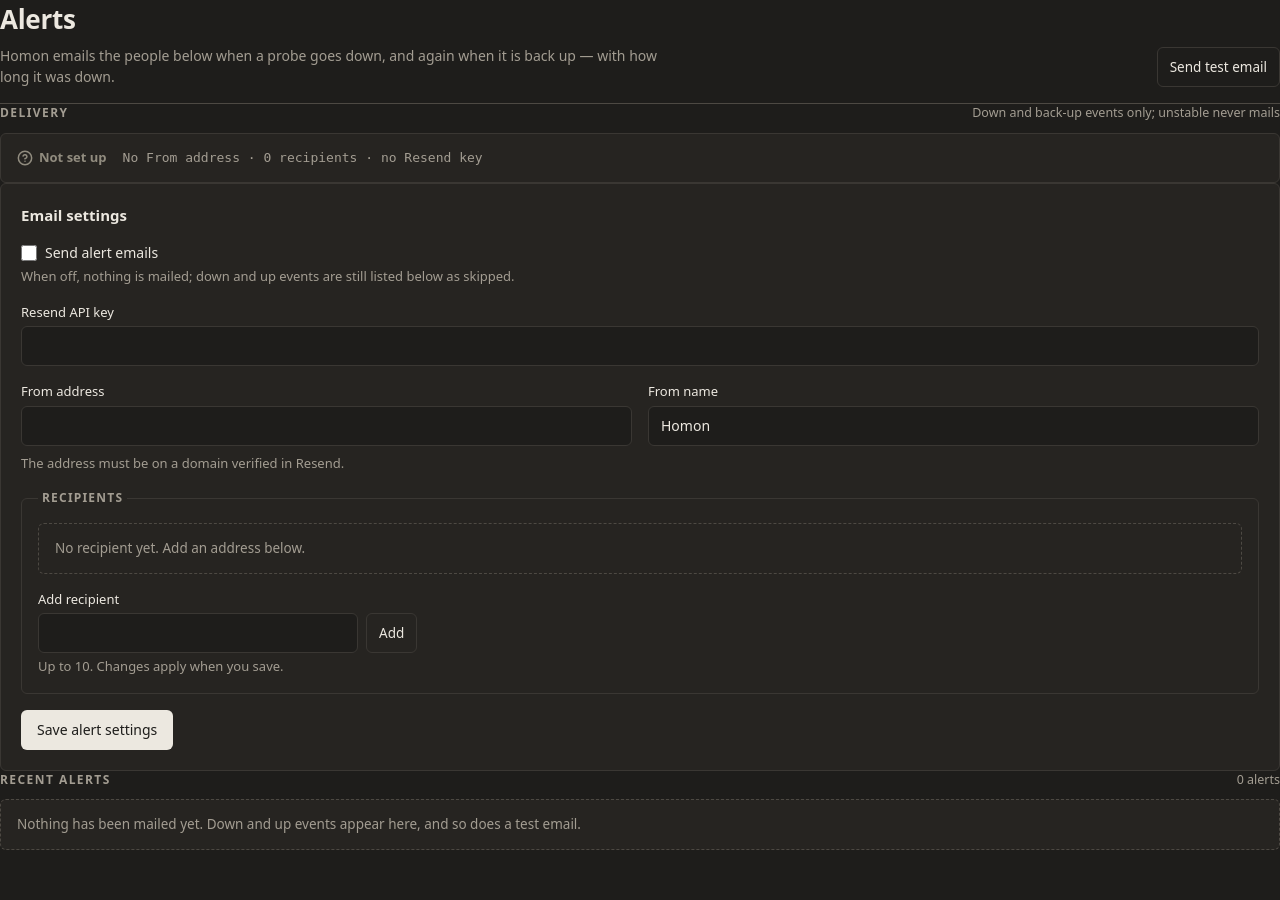
Test: AdminAlertsPage › shows the problem the API gave when a save is refused
Check: the password field labelled "Resend API key" is shown, box [21,326,1259,366]
Click the button "Save alert settings" at point(97, 730), box [21,710,173,750]
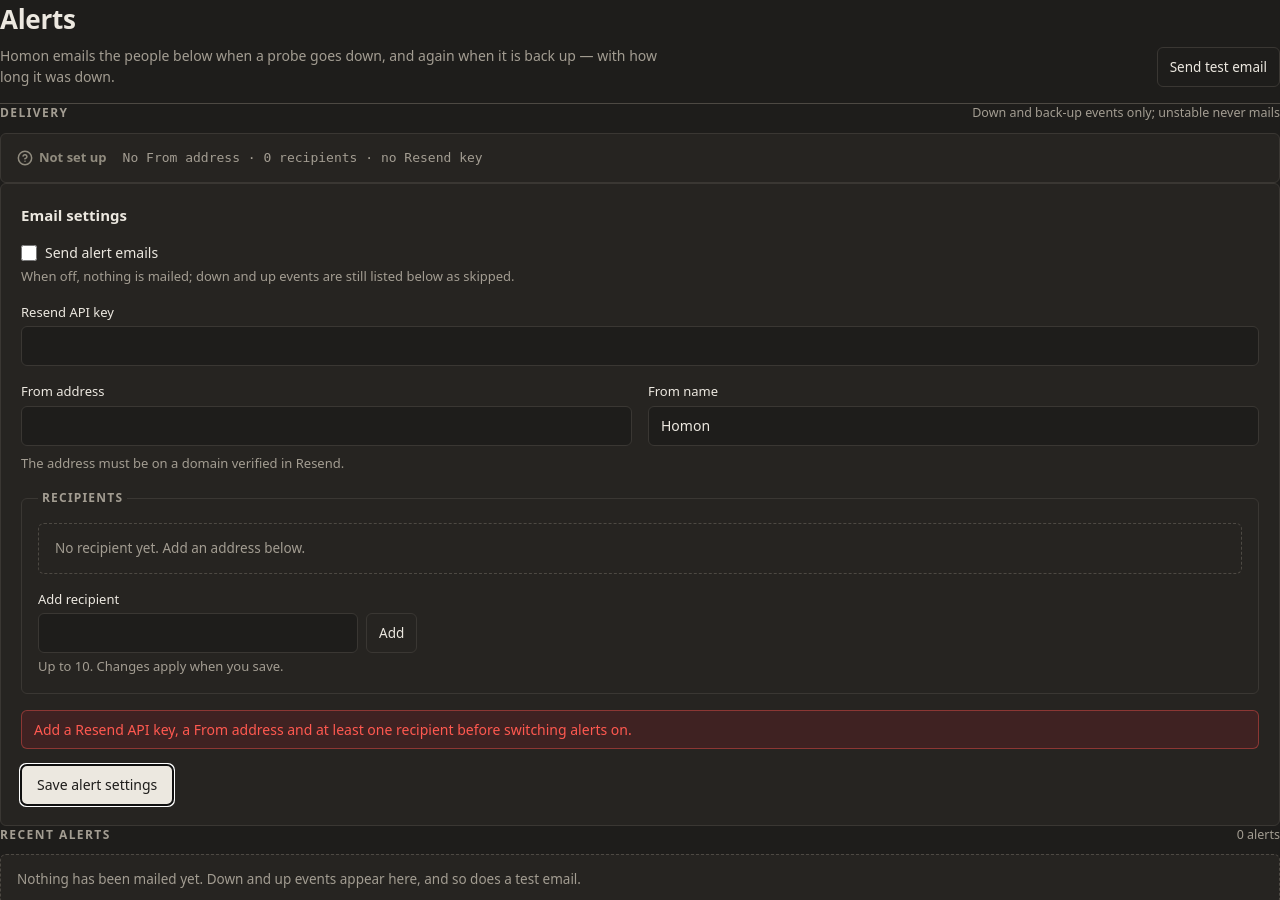
Check: the message shows "Add a Resend API key, a From address", box [34,720,632,738]
